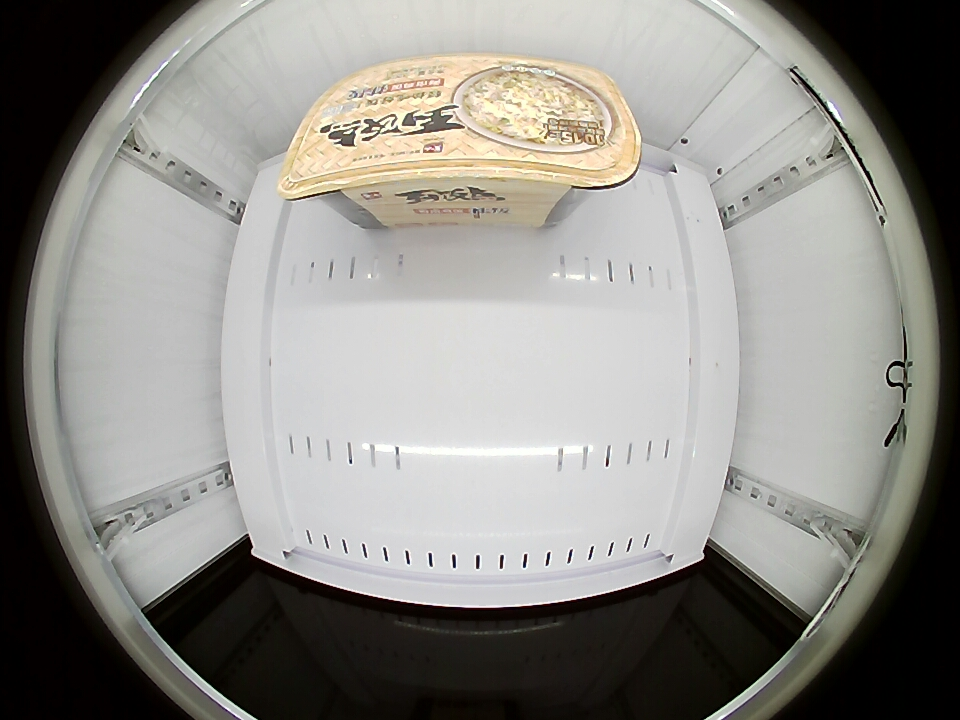daofandian1: (278, 54, 642, 228)
